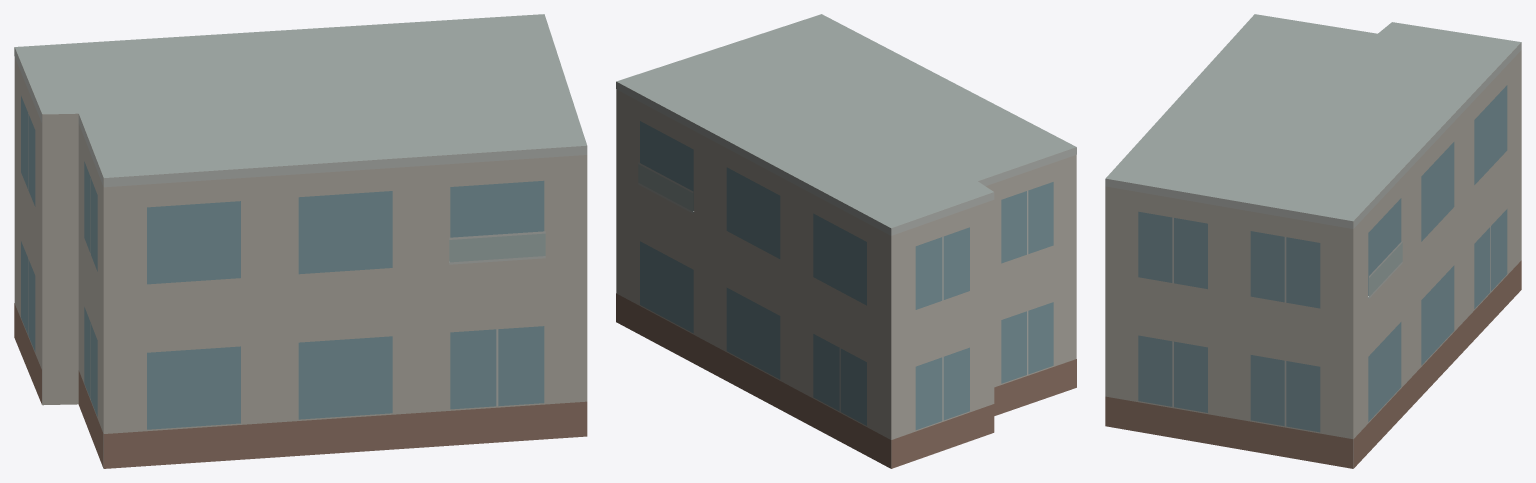
The model's file is survey-upis-32517748.glb.
3 renders of one model, left to right at view 1: azimuth 30°, elevation 25°; view 2: azimuth 150°, elevation 25°; view 3: azimuth 270°, elevation 25°, orthographic. The views are drawn at different scales.
Visible parts, largest first — view 1: survey-upis-32517748.tmp; view 2: survey-upis-32517748.tmp; view 3: survey-upis-32517748.tmp.
Boxes of the visible parts, x1,y1,x2,y2 form: survey-upis-32517748.tmp: (14,14,587,468); survey-upis-32517748.tmp: (616,14,1076,468); survey-upis-32517748.tmp: (1105,14,1521,468).
Size of the model in its own units: 13.84 by 7.7 by 11.74.
